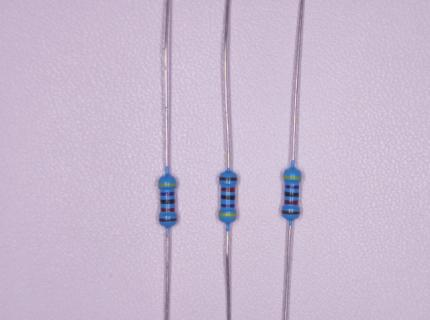Black band: (284, 191, 299, 197), (221, 195, 235, 200), (161, 199, 174, 204)
Brown band: (219, 177, 237, 181), (282, 210, 300, 214), (159, 218, 176, 221)
Red band: (284, 200, 299, 205), (161, 207, 175, 212), (221, 187, 235, 192)
Violet band: (161, 192, 175, 196), (221, 204, 235, 208), (285, 185, 299, 189)
Yellow band: (219, 213, 237, 217), (159, 183, 176, 186), (284, 176, 301, 179)
